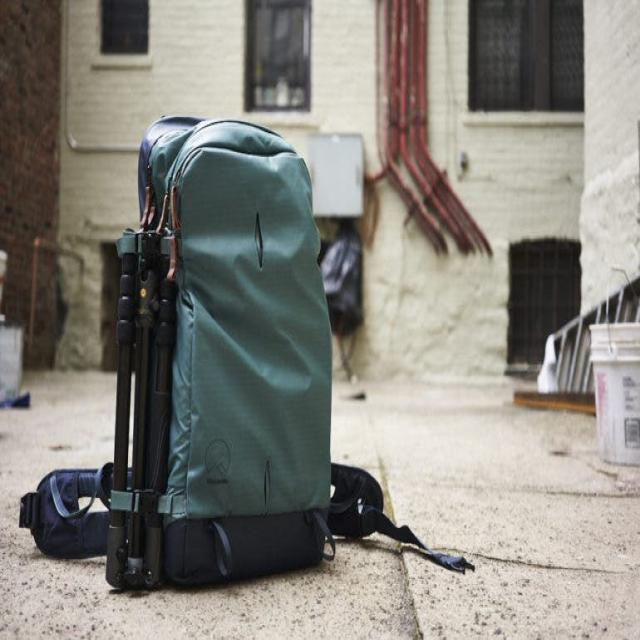Backpacks: (104, 104, 334, 579)
